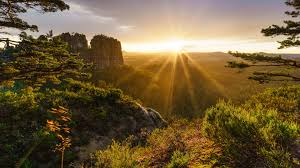mountain: (11, 38, 296, 166)
sky: (69, 5, 300, 55)
